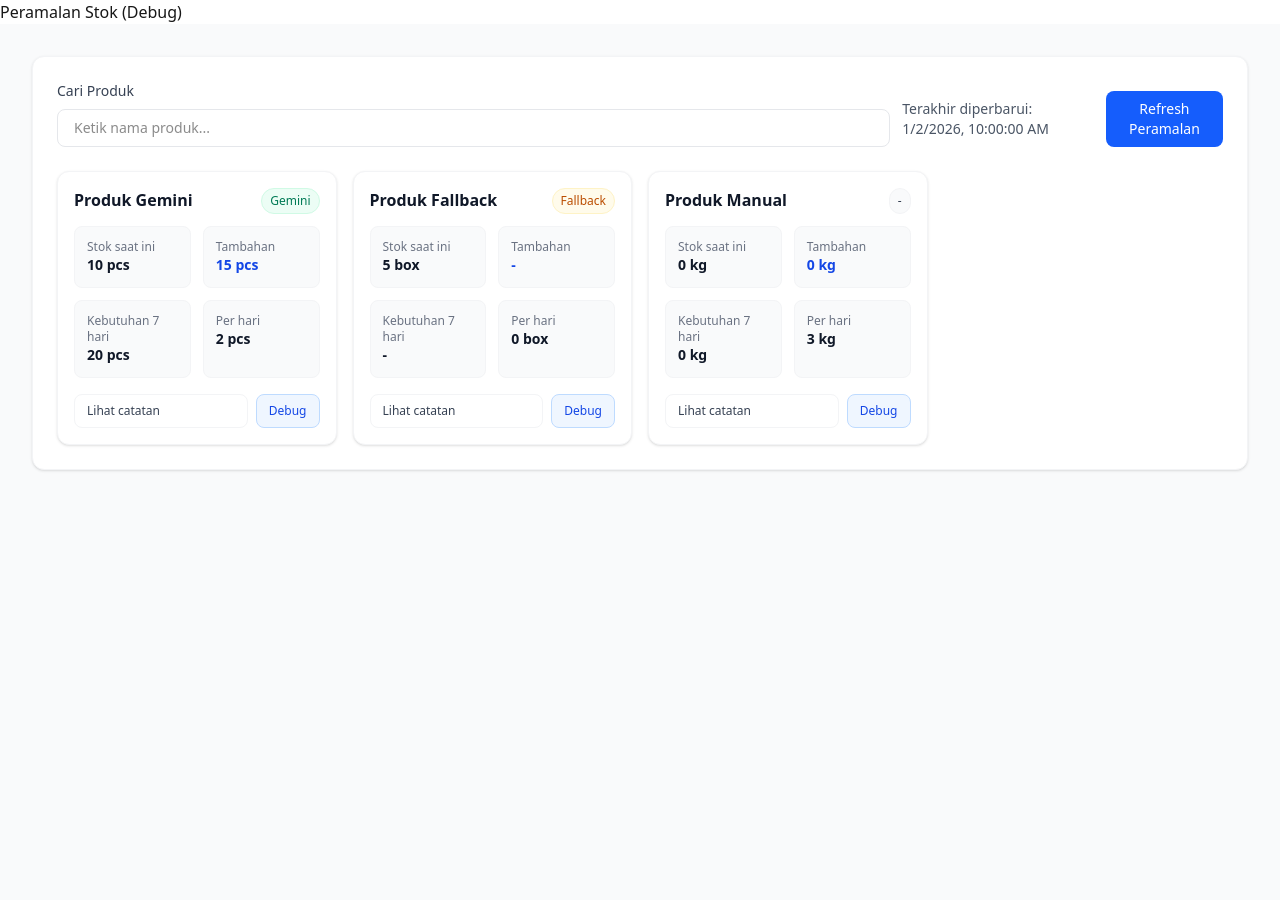
Test: recommendations-debug module › detail modal › shows fallback detail without debug blocks
This screenshot has width=1280, height=900.
Expected: the text "Produk Gemini" is shown, x1=74 y1=188 x2=193 y2=212
Click the button "Debug" below "Produk Fallback": click(583, 411) x1=551 y1=394 x2=615 y2=428
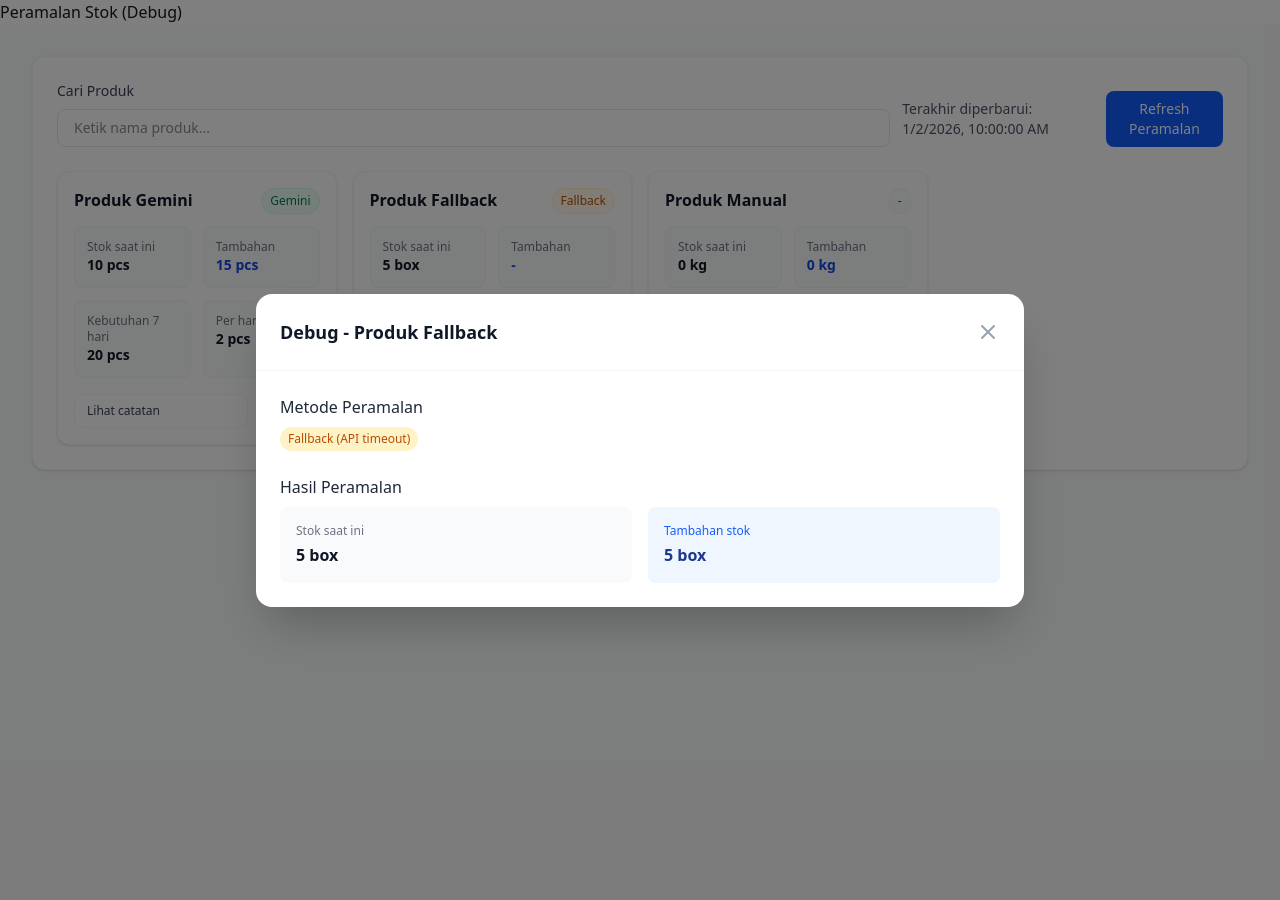
Expected: the text "Fallback (API timeout)" is shown, x1=280 y1=426 x2=418 y2=450
